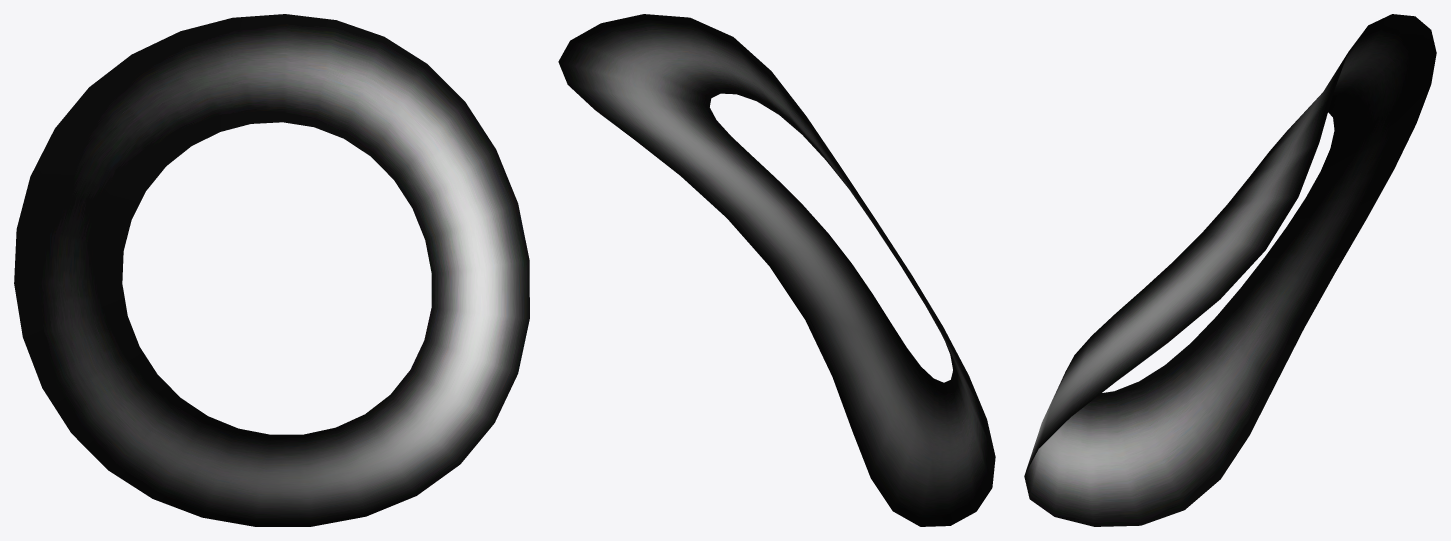
File: vfx_kurp_0091.dae
The picture shows the model from 3 angles, left to right: view 1: azimuth 30°, elevation 25°; view 2: azimuth 150°, elevation 25°; view 3: azimuth 270°, elevation 25°; orthographic projection. The views are drawn at different scales.
Parts seen in each view (by area): view 1: vfx_kurp_0091; view 2: vfx_kurp_0091; view 3: vfx_kurp_0091.
Boxes of the visible parts, bbox=[...] form: vfx_kurp_0091: bbox=[14, 14, 529, 526]; vfx_kurp_0091: bbox=[558, 14, 995, 526]; vfx_kurp_0091: bbox=[1024, 14, 1436, 526].
Size of the model in its own units: 8.75 by 6.46 by 8.92.
1 material, 1 textured.
